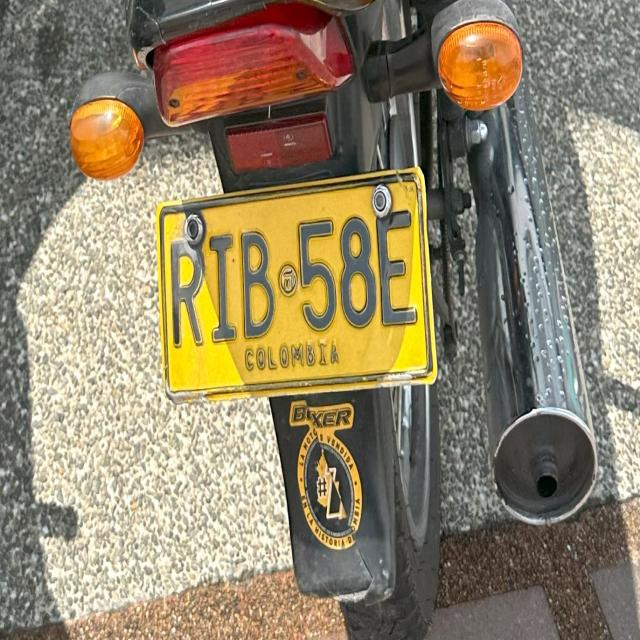number plate: (156, 167, 436, 400)
